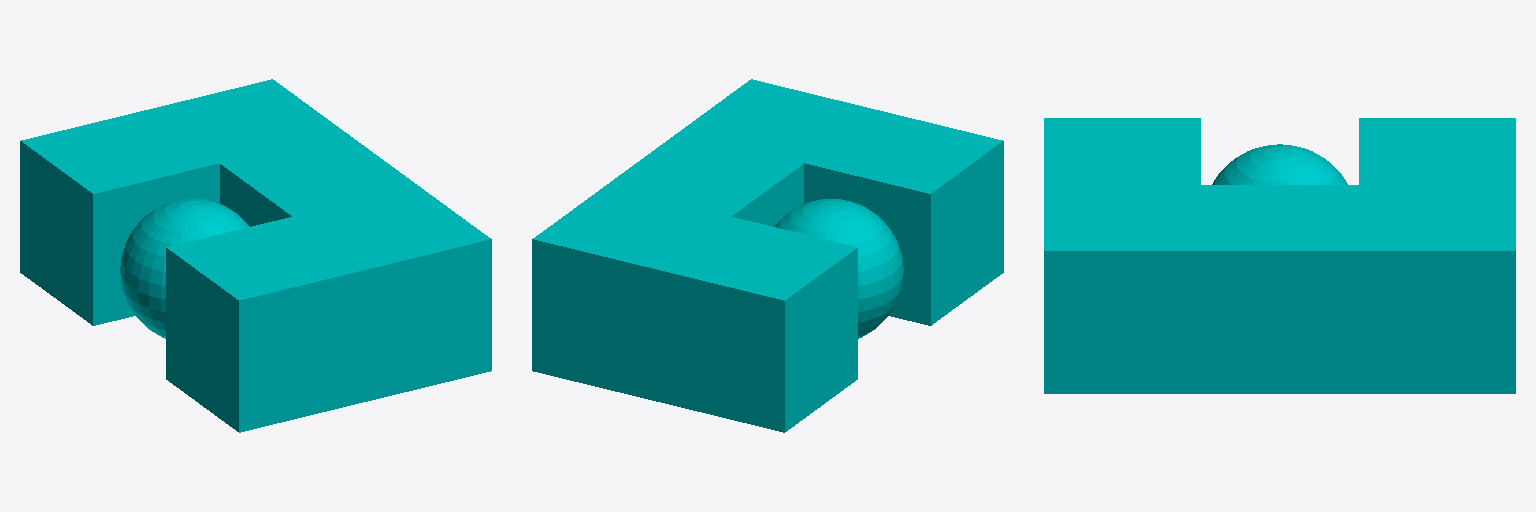
robot.urdf — slot:
<?xml version="1.0" ?>

<robot name="slot">
    <material name="slot">
        <color rgba="0 0.8 0.8 1"/>
    </material>
    <material name="slot_target">
        <color rgba="0 0.8 0.8 0.0"/>
    </material>
    <link name="base">
        <contact>
            <lateral_friction value="1.0"/>
            <rolling_friction value="0.0"/>
            <inertia_scaling value="3.0"/>
            <contact_cfm value="0.0"/>
            <contact_erp value="1.0"/>
        </contact>
        <inertial>
            <origin rpy="0 0 0" xyz="0 0 0"/>
            <mass value="100"/>
            <inertia ixx="0.1" ixy="0" ixz="0" iyy="0.1" iyz="0" izz="0.1"/>
        </inertial>
        <visual>
            <origin rpy="0 0 0" xyz="0 0 0"/>
            <geometry>
                <box size="0.03 0.09 0.03"/>
            </geometry>
            <material name="slot"/>
        </visual>
        <collision>
            <origin rpy="0 0 0" xyz="0 0 0"/>
            <geometry>
                <box size="0.03 0.09 0.03"/>
            </geometry>
        </collision>
    </link>
    <joint name="base_left_joint" type="fixed">
        <origin rpy="0 0 0" xyz="-0.03 0.03 0"/>
        <parent link="base"/>
        <child link="left"/>
    </joint>
    <link name="left">
        <contact>
            <lateral_friction value="1.0"/>
            <rolling_friction value="0.0"/>
            <inertia_scaling value="3.0"/>
            <contact_cfm value="0.0"/>
            <contact_erp value="1.0"/>
        </contact>
        <inertial>
            <origin rpy="0 0 0" xyz="0 0 0"/>
            <mass value="100"/>
            <inertia ixx="0.1" ixy="0" ixz="0" iyy="0.1" iyz="0" izz="0.1"/>
        </inertial>
        <visual>
            <origin rpy="0 0 0" xyz="0 0 0"/>
            <geometry>
                <box size="0.03 0.03 0.03"/>
            </geometry>
            <material name="slot"/>
        </visual>
        <collision>
            <origin rpy="0 0 0" xyz="0 0 0"/>
            <geometry>
                <box size="0.03 0.03 0.03"/>
            </geometry>
        </collision>
    </link>
    <joint name="base_right_joint" type="fixed">
        <origin rpy="0 0 0" xyz="-0.03 -0.03 0"/>
        <parent link="base"/>
        <child link="right"/>
    </joint>
    <link name="right">
        <contact>
            <lateral_friction value="1.0"/>
            <rolling_friction value="0.0"/>
            <inertia_scaling value="3.0"/>
            <contact_cfm value="0.0"/>
            <contact_erp value="1.0"/>
        </contact>
        <inertial>
            <origin rpy="0 0 0" xyz="0 0 0"/>
            <mass value="100"/>
            <inertia ixx="0.1" ixy="0" ixz="0" iyy="0.1" iyz="0" izz="0.1"/>
        </inertial>
        <visual>
            <origin rpy="0 0 0" xyz="0 0 0"/>
            <geometry>
                <box size="0.03 0.03 0.03"/>
            </geometry>
            <material name="slot"/>
        </visual>
        <collision>
            <origin rpy="0 0 0" xyz="0 0 0"/>
            <geometry>
                <box size="0.03 0.03 0.03"/>
            </geometry>
        </collision>
    </link>
    <joint name="base_target_joint" type="fixed">
        <origin rpy="0 0 0" xyz="-0.03 0 0"/>
        <parent link="base"/>
        <child link="slot_target"/>
    </joint>
    <link name="slot_target">
        <inertial>
            <origin rpy="0 0 0" xyz="0 0 0"/>
            <mass value="0"/>
            <inertia ixx="0.1" ixy="0" ixz="0" iyy="0.1" iyz="0" izz="0.1"/>
        </inertial>
        <visual>
            <origin rpy="0 0 0" xyz="0 0 0"/>
            <geometry>
                <sphere radius="0.015"/>
            </geometry>
            <material name="slot_target"/>
        </visual>
    </link>
</robot>

--- Render facts (derived) ---
3 views of the same robot in one strip: view 1: azimuth 30°, elevation 25°; view 2: azimuth 150°, elevation 25°; view 3: azimuth 270°, elevation 25° (orthographic).
Model slot with 4 links and 3 joints (3 fixed), rooted at base, posed every joint at zero.
Links seen in each view (by area): view 1: base, right, left, slot_target; view 2: base, left, right, slot_target; view 3: base, left, right, slot_target.
Boxes of the visible links, left/top/right/bottom form: base: left=147, top=79, right=491, bottom=401; right: left=166, top=217, right=364, bottom=432; left: left=20, top=110, right=219, bottom=325; slot_target: left=120, top=199, right=249, bottom=338; base: left=532, top=79, right=876, bottom=401; left: left=659, top=217, right=857, bottom=432; right: left=804, top=110, right=1003, bottom=325; slot_target: left=774, top=199, right=903, bottom=338; base: left=1044, top=185, right=1515, bottom=393; left: left=1359, top=118, right=1515, bottom=184; right: left=1044, top=118, right=1200, bottom=184; slot_target: left=1212, top=144, right=1347, bottom=184.
Size in the robot's own frame: 0.06 by 0.09 by 0.03 metres.
Geometry: primitives only (box / cylinder / sphere), no mesh files.